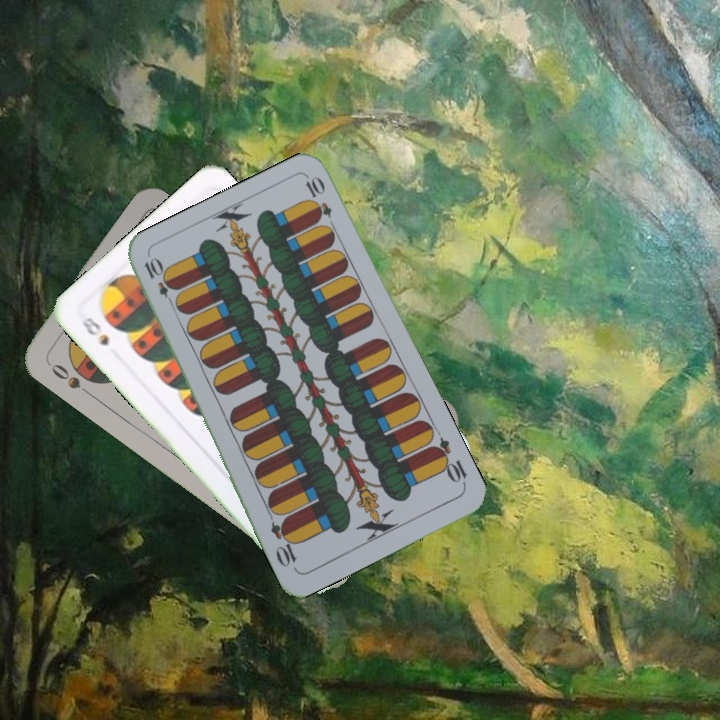E10: (427, 434, 470, 489), (140, 254, 179, 310)
S8: (74, 312, 112, 349)
SO: (43, 356, 93, 398)
